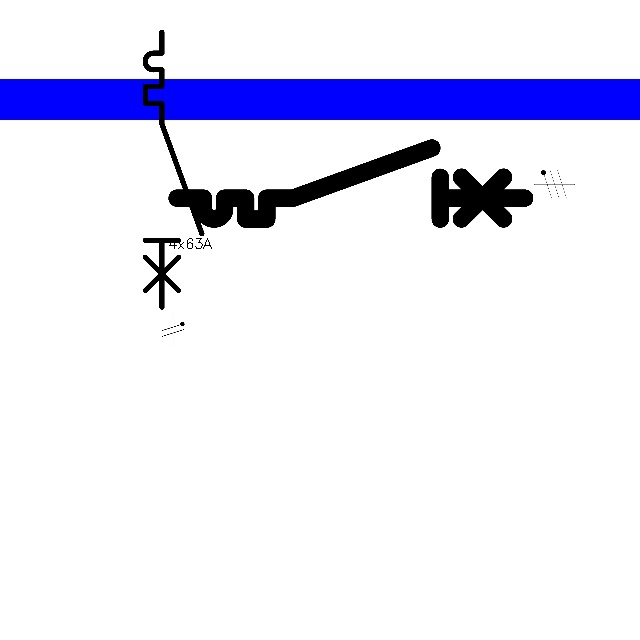interruptor_termomagnetico: (168, 139, 534, 228), (138, 25, 208, 314)
